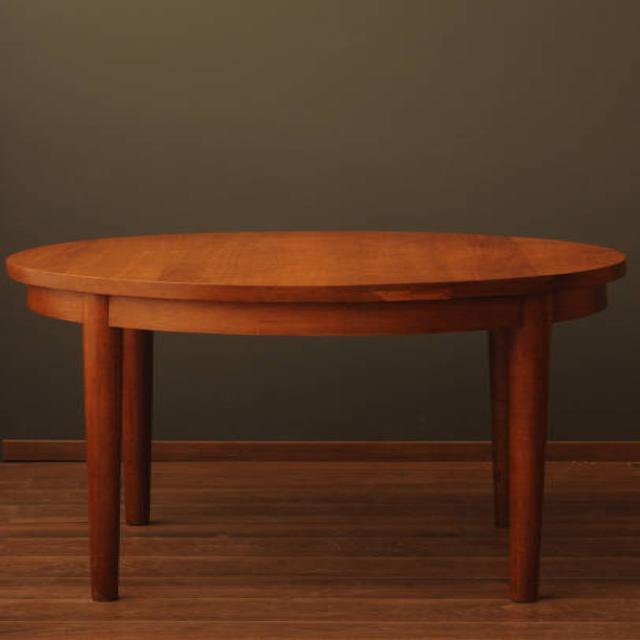table: (5, 228, 628, 604)
